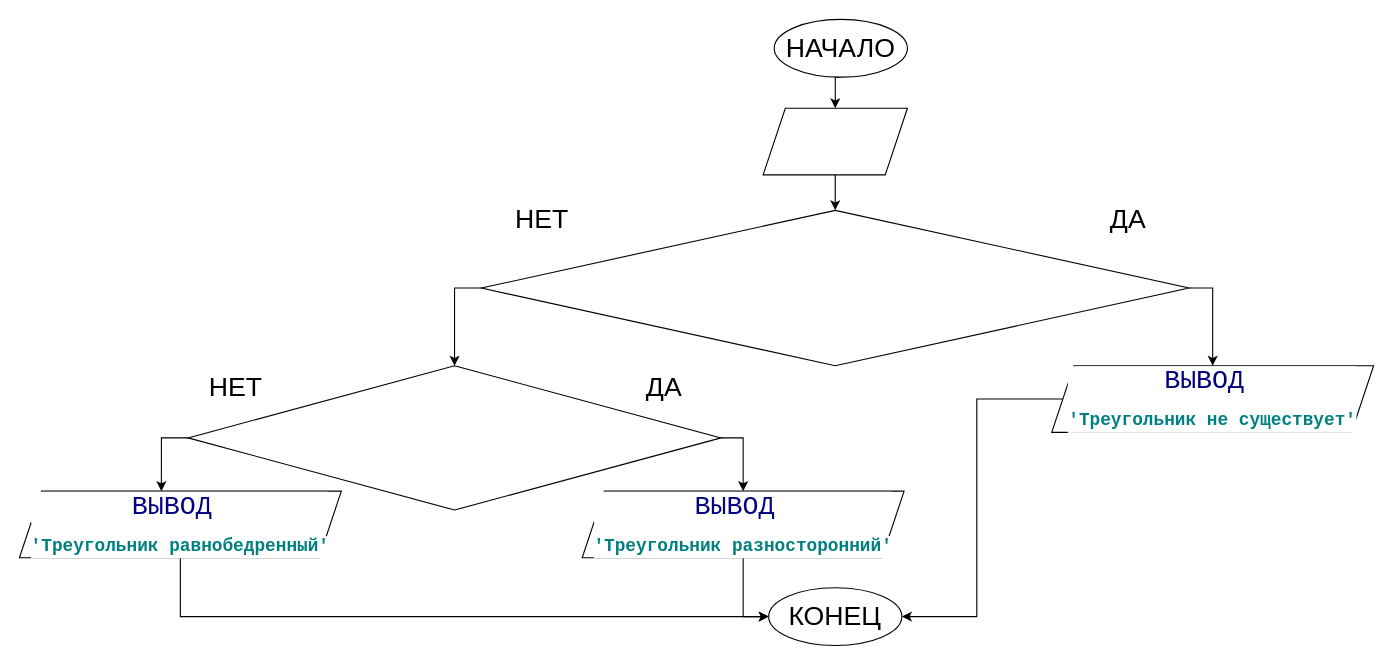
This 1393x665 diagram has some shape labels left out. Each missing label, with the box of its shape:
a != c and a != b and c != b: (187, 365, 721, 510)
a + b <= c or a + c <= b or b + c <= a: (480, 209, 1189, 366)
ВВОД a, b, c: (762, 107, 907, 175)
